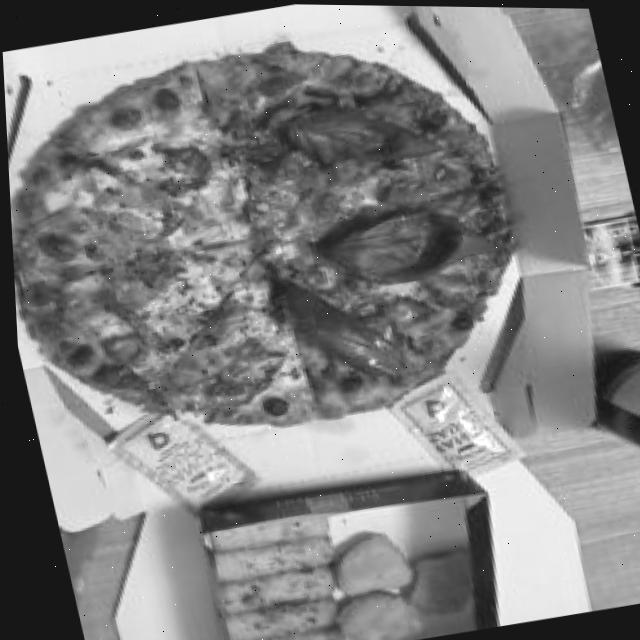汉堡快餐: (0, 3, 536, 468)
